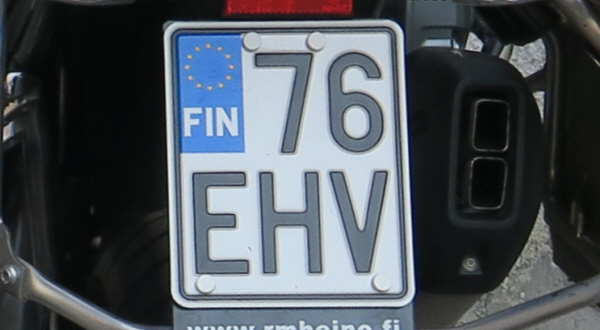license_plate: (168, 25, 409, 302)
